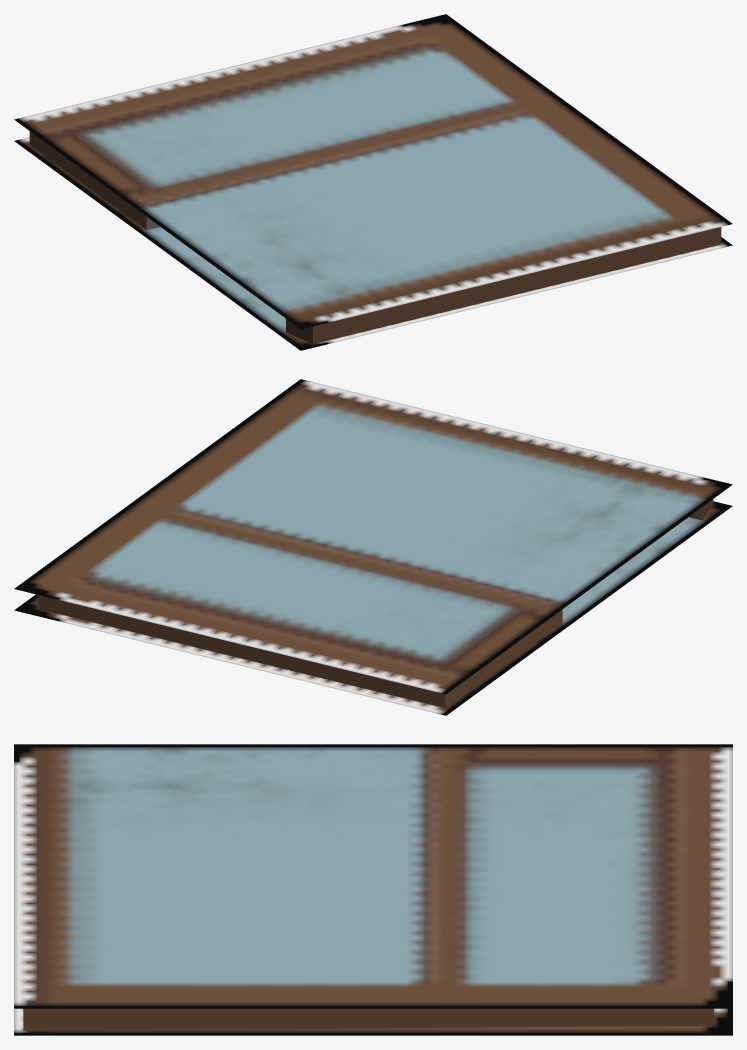
File: pz_native_location_hospitality_sunstarmotel_01_31_frame.obj
3 views of the same model, one above another, from view 1: azimuth 30°, elevation 25°; view 2: azimuth 150°, elevation 25°; view 3: azimuth 270°, elevation 25° (orthographic). The views are drawn at different scales.
Parts seen in each view (by area): view 1: pz_native_location_hospitality_sunstarmotel_01_31_frame; view 2: pz_native_location_hospitality_sunstarmotel_01_31_frame; view 3: pz_native_location_hospitality_sunstarmotel_01_31_frame.
Boxes of the visible parts, x1,y1,x2,y2 form: pz_native_location_hospitality_sunstarmotel_01_31_frame: (14, 14, 732, 350); pz_native_location_hospitality_sunstarmotel_01_31_frame: (14, 379, 732, 715); pz_native_location_hospitality_sunstarmotel_01_31_frame: (14, 744, 732, 1035).
Bounding box in the file's own units: 0.8438 × 0.04 × 0.9696.
Materials: 1 (1 with a texture image).
